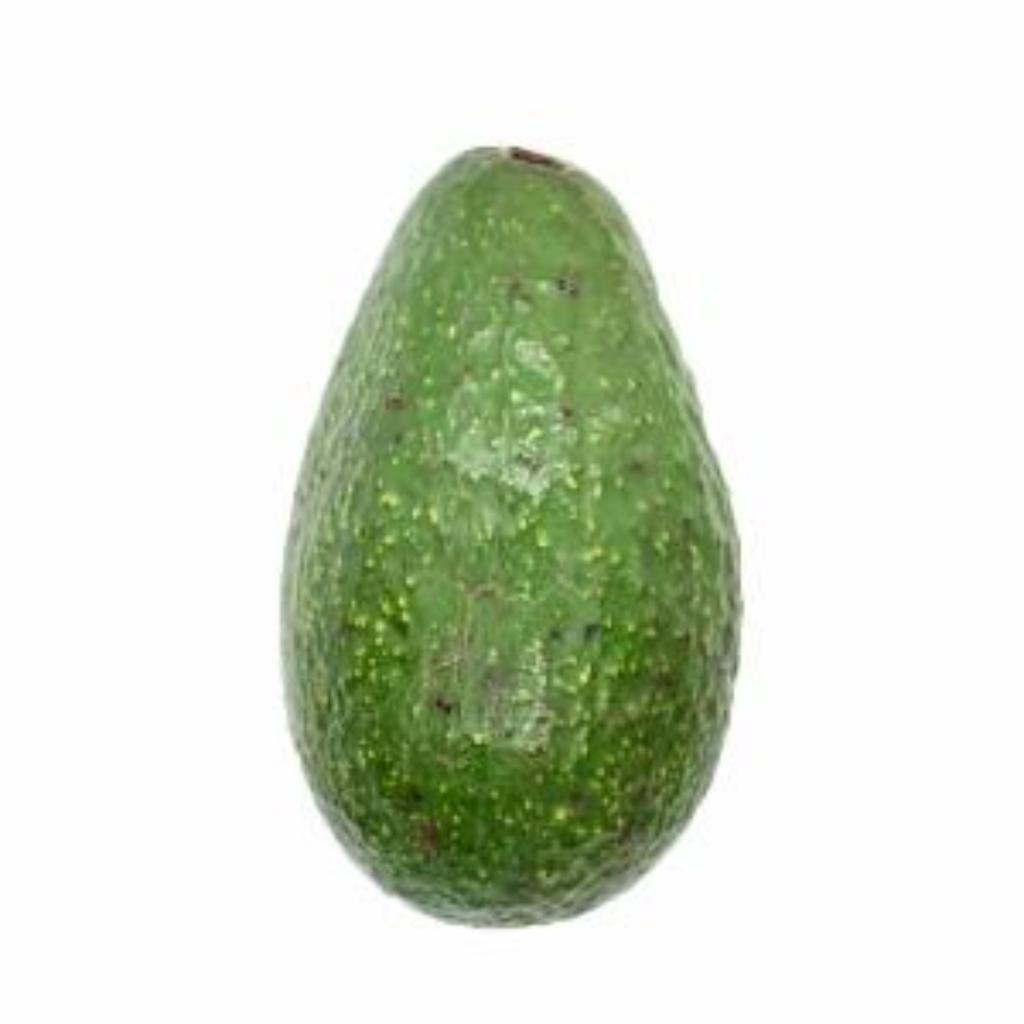cercospora: (268, 132, 790, 931)
